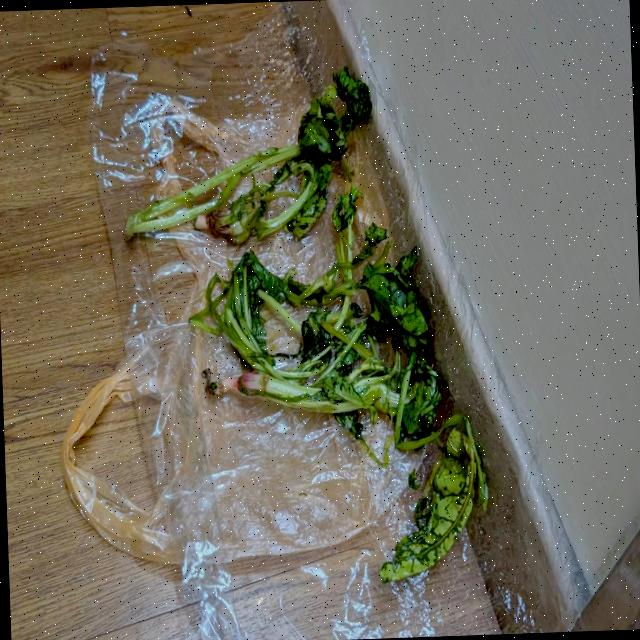rotten spinach: (113, 41, 509, 622), (188, 192, 456, 433), (110, 54, 390, 276), (337, 400, 508, 594)
